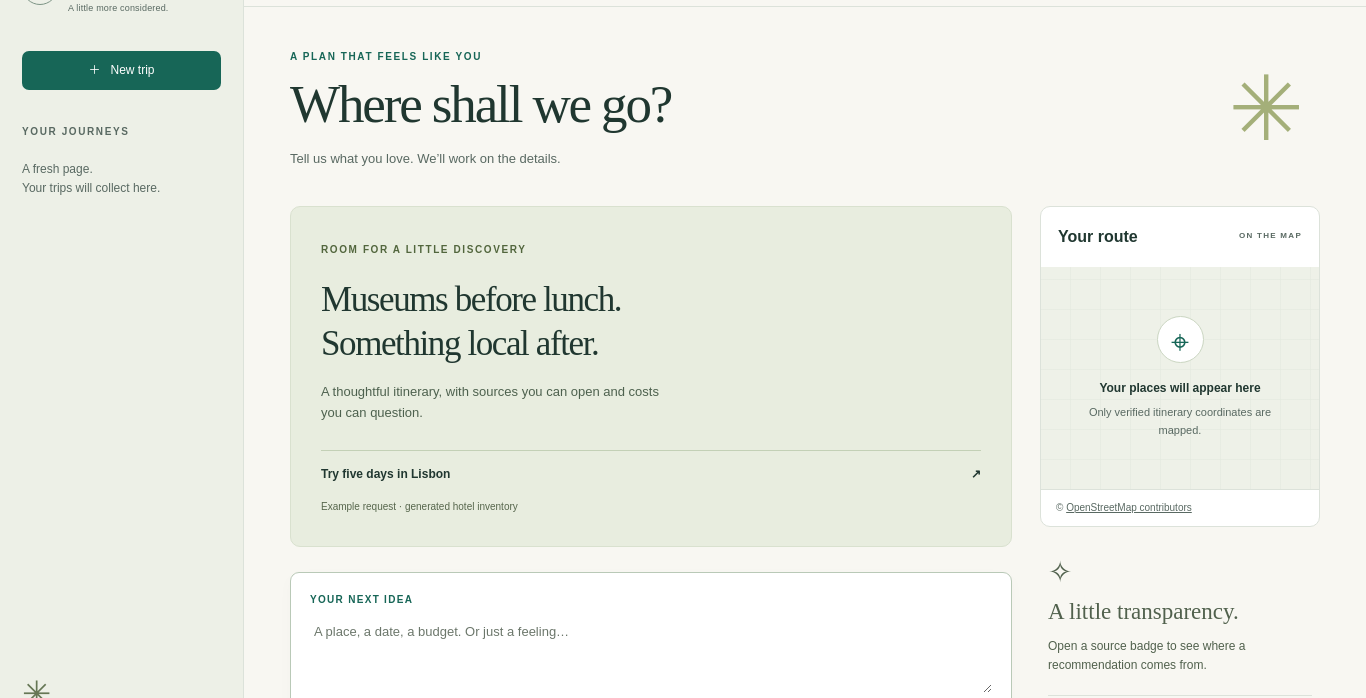
Stop aborts the fetch and releases the loading state
Type "Plan a synthetic trip" into the text box labelled "Your next idea" at (651, 656), box 310,618 -> 992,693
(page scrolled)
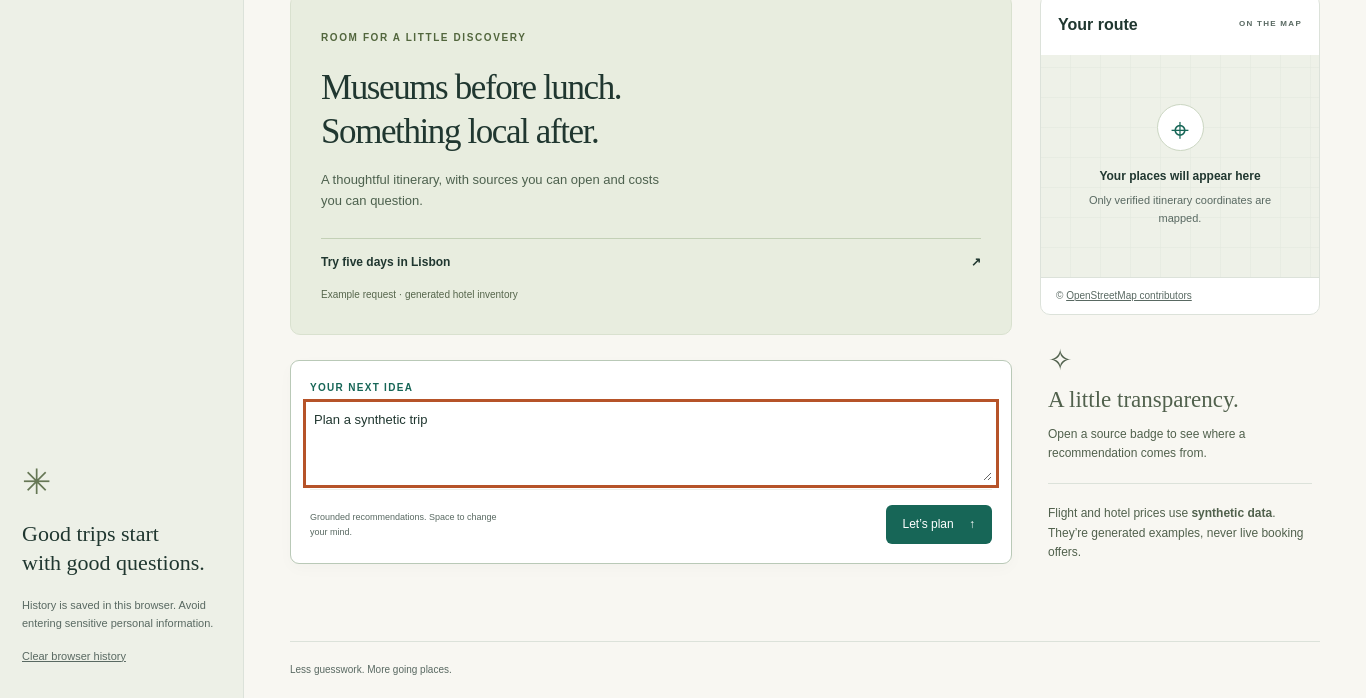
Click the button "Let’s plan ↑" at (939, 525), box 886,505 -> 992,544
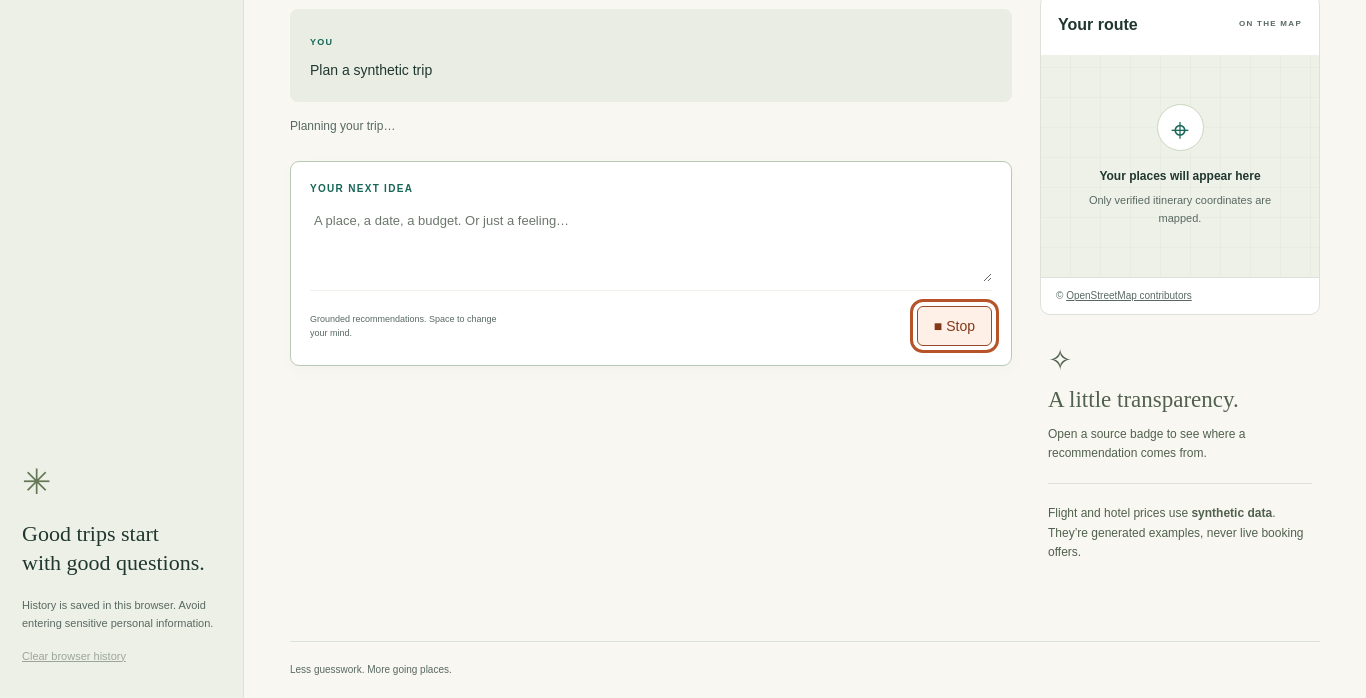
Click the button "■ Stop" at (954, 326), box 917,306 -> 992,346
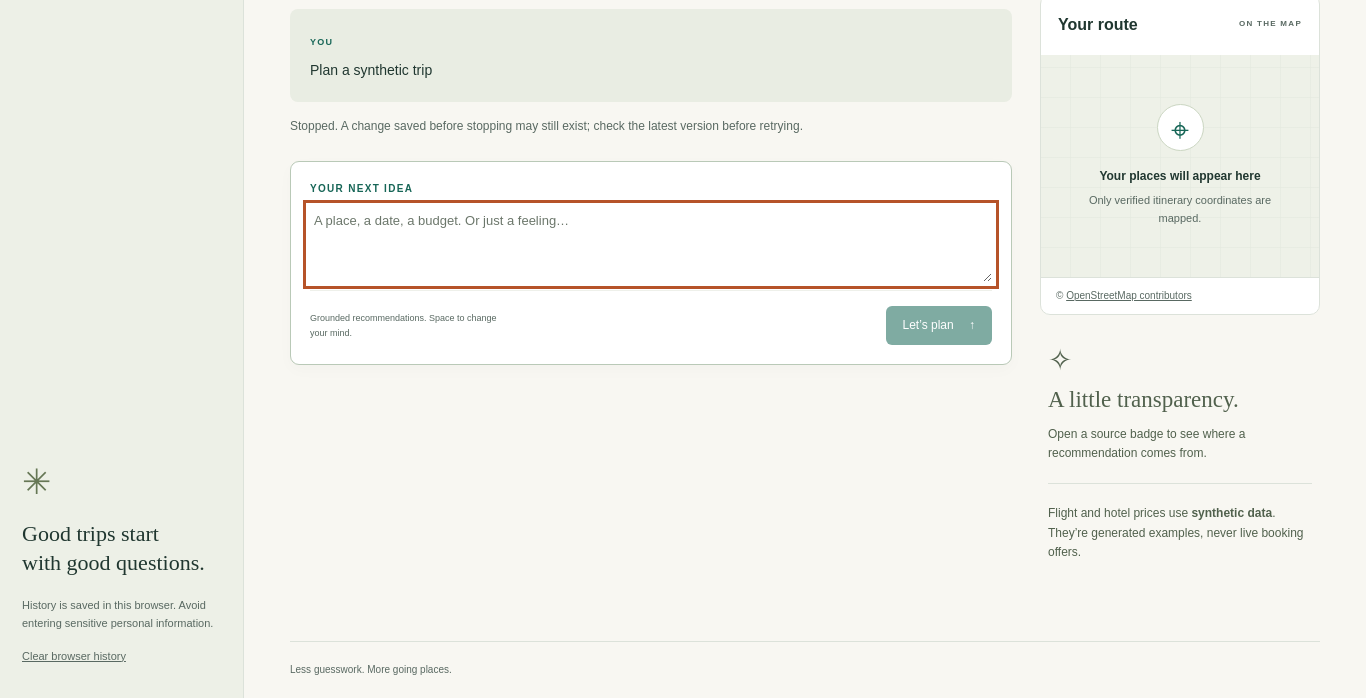
Expected: the text box is enabled, 310,207 -> 992,282
Now the text "Stopped. A change saved" is shown, box 290,119 -> 803,133
